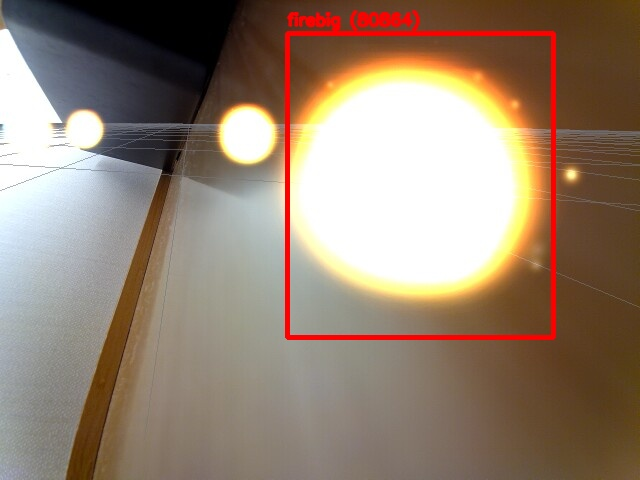firebig: (287, 33, 553, 337)
